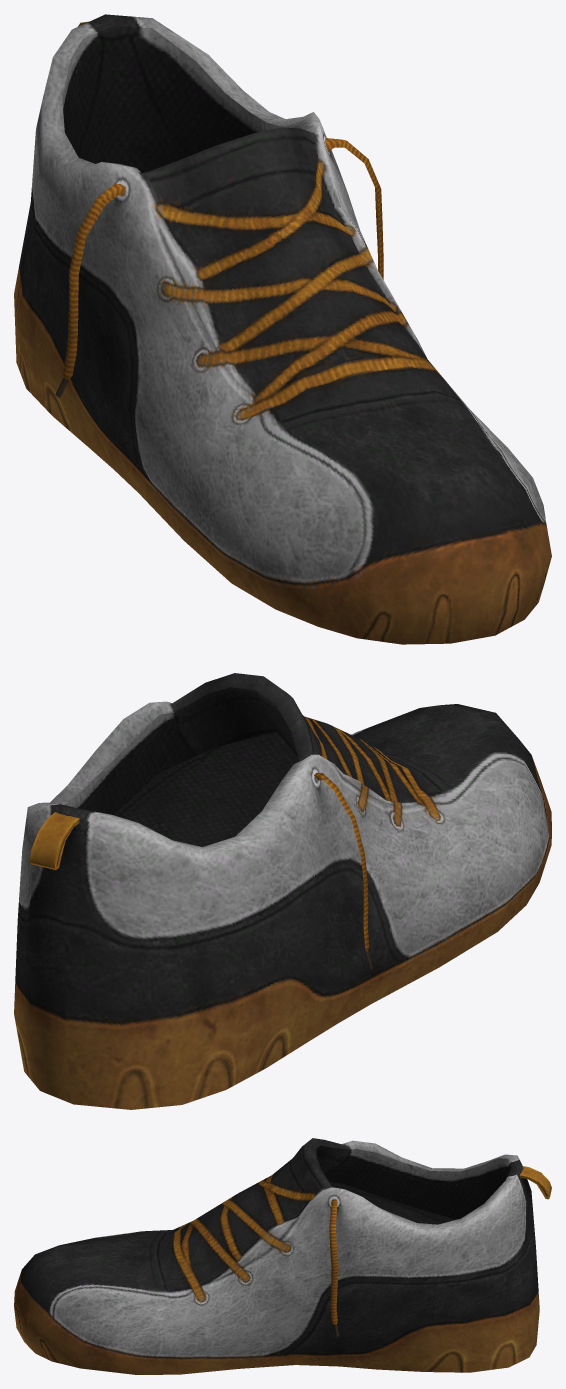
File: shoe_right.DAE
3 views of the same model, one above another, from view 1: azimuth 30°, elevation 25°; view 2: azimuth 150°, elevation 25°; view 3: azimuth 270°, elevation 25° (orthographic). The views are drawn at different scales.
Parts seen in each view (by area): view 1: shoe_right; view 2: shoe_right; view 3: shoe_right.
Part boxes in pixels (<box>): shoe_right: <box>14,14,551,644</box>; shoe_right: <box>14,673,551,1109</box>; shoe_right: <box>14,1138,551,1374</box>.
Bounding box in the file's own units: 0.1462 × 0.1448 × 0.357.
